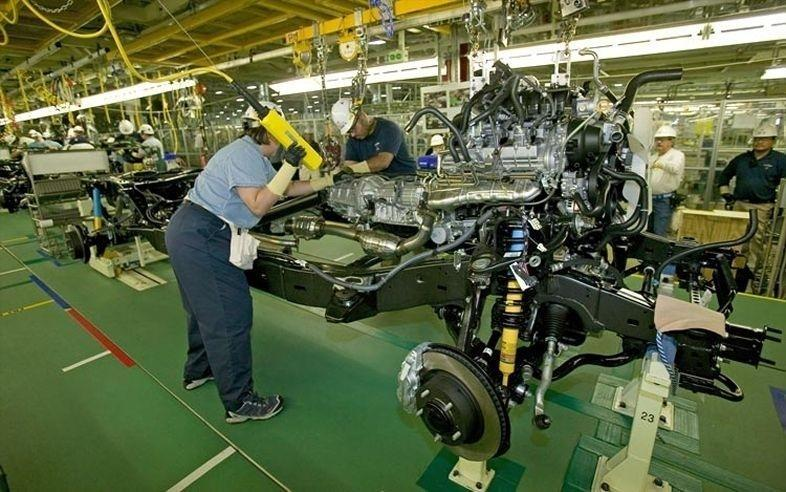capacete: (241, 102, 292, 139), (328, 100, 367, 132), (643, 124, 682, 143), (748, 123, 783, 141)
pessoa: (180, 93, 289, 430), (720, 120, 786, 301), (328, 93, 419, 185), (647, 127, 685, 268)
